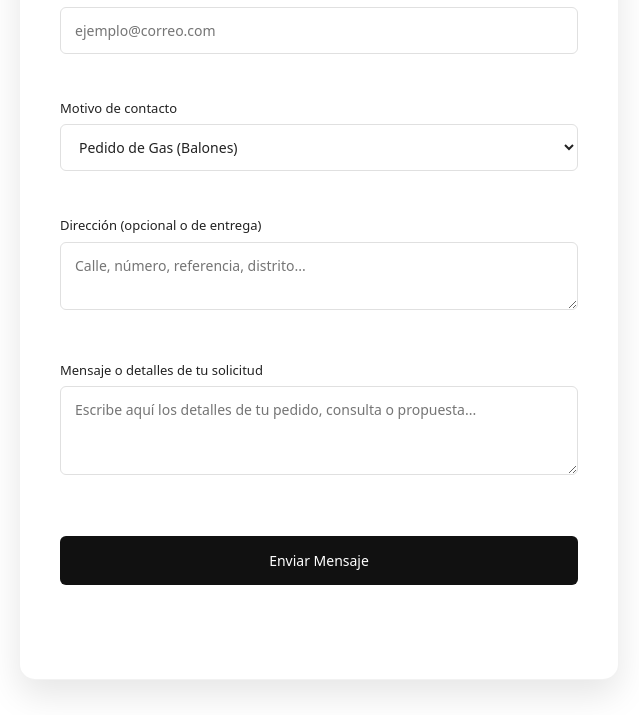
Test: Contacto - formulario › muestra los errores de los campos obligatorios y enfoca el primero
(page scrolled)
Click the button "Enviar Mensaje".
click(319, 561)  # box [60,536,578,585]
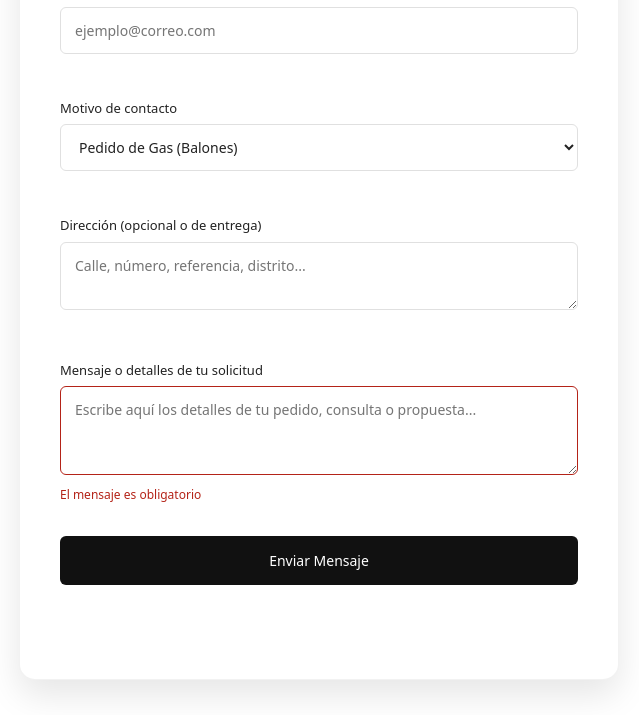
Result: the text "El mensaje es obligatorio" is shown at [60,486,201,503]
